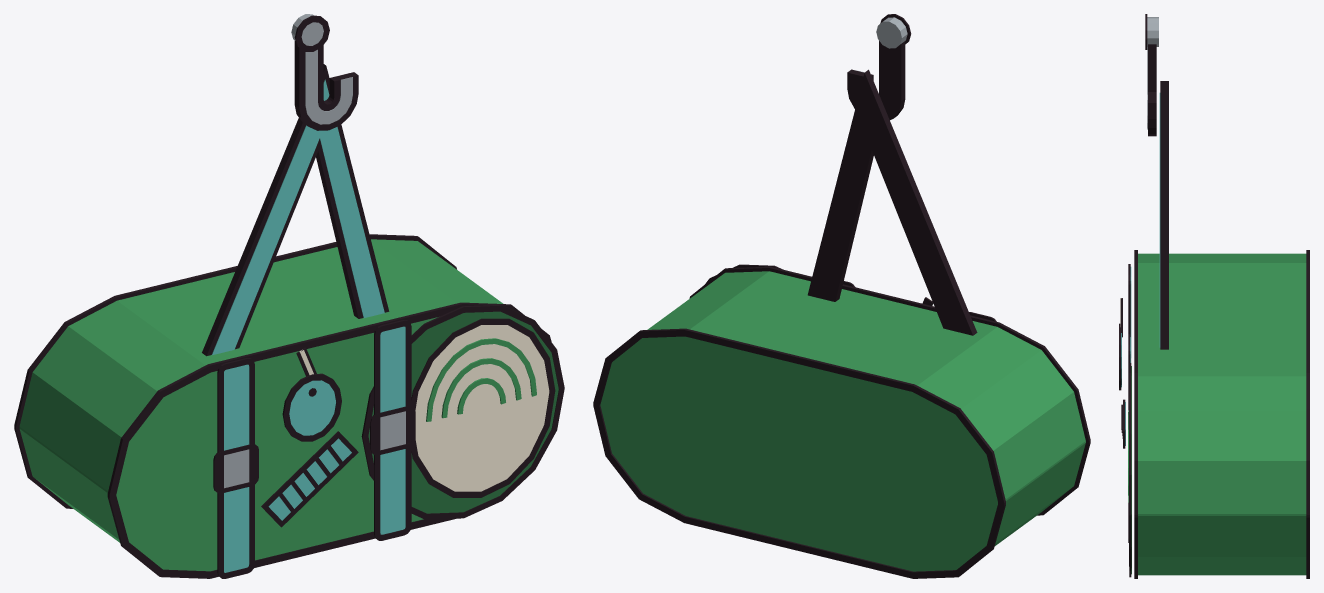
The picture shows the model from 3 angles, left to right: view 1: azimuth 30°, elevation 25°; view 2: azimuth 150°, elevation 25°; view 3: azimuth 270°, elevation 25°; orthographic projection. The views are drawn at different scales.
Parts seen in each view (by area): view 1: Bag Holders proposal; view 2: Bag Holders proposal; view 3: Bag Holders proposal.
Boxes of the visible parts, x1,y1,x2,y2 form: Bag Holders proposal: (14,14,564,578); Bag Holders proposal: (593,14,1090,578); Bag Holders proposal: (1119,14,1309,578).
Bounding box in the file's own units: 0.8816 × 0.9883 × 0.3491.
